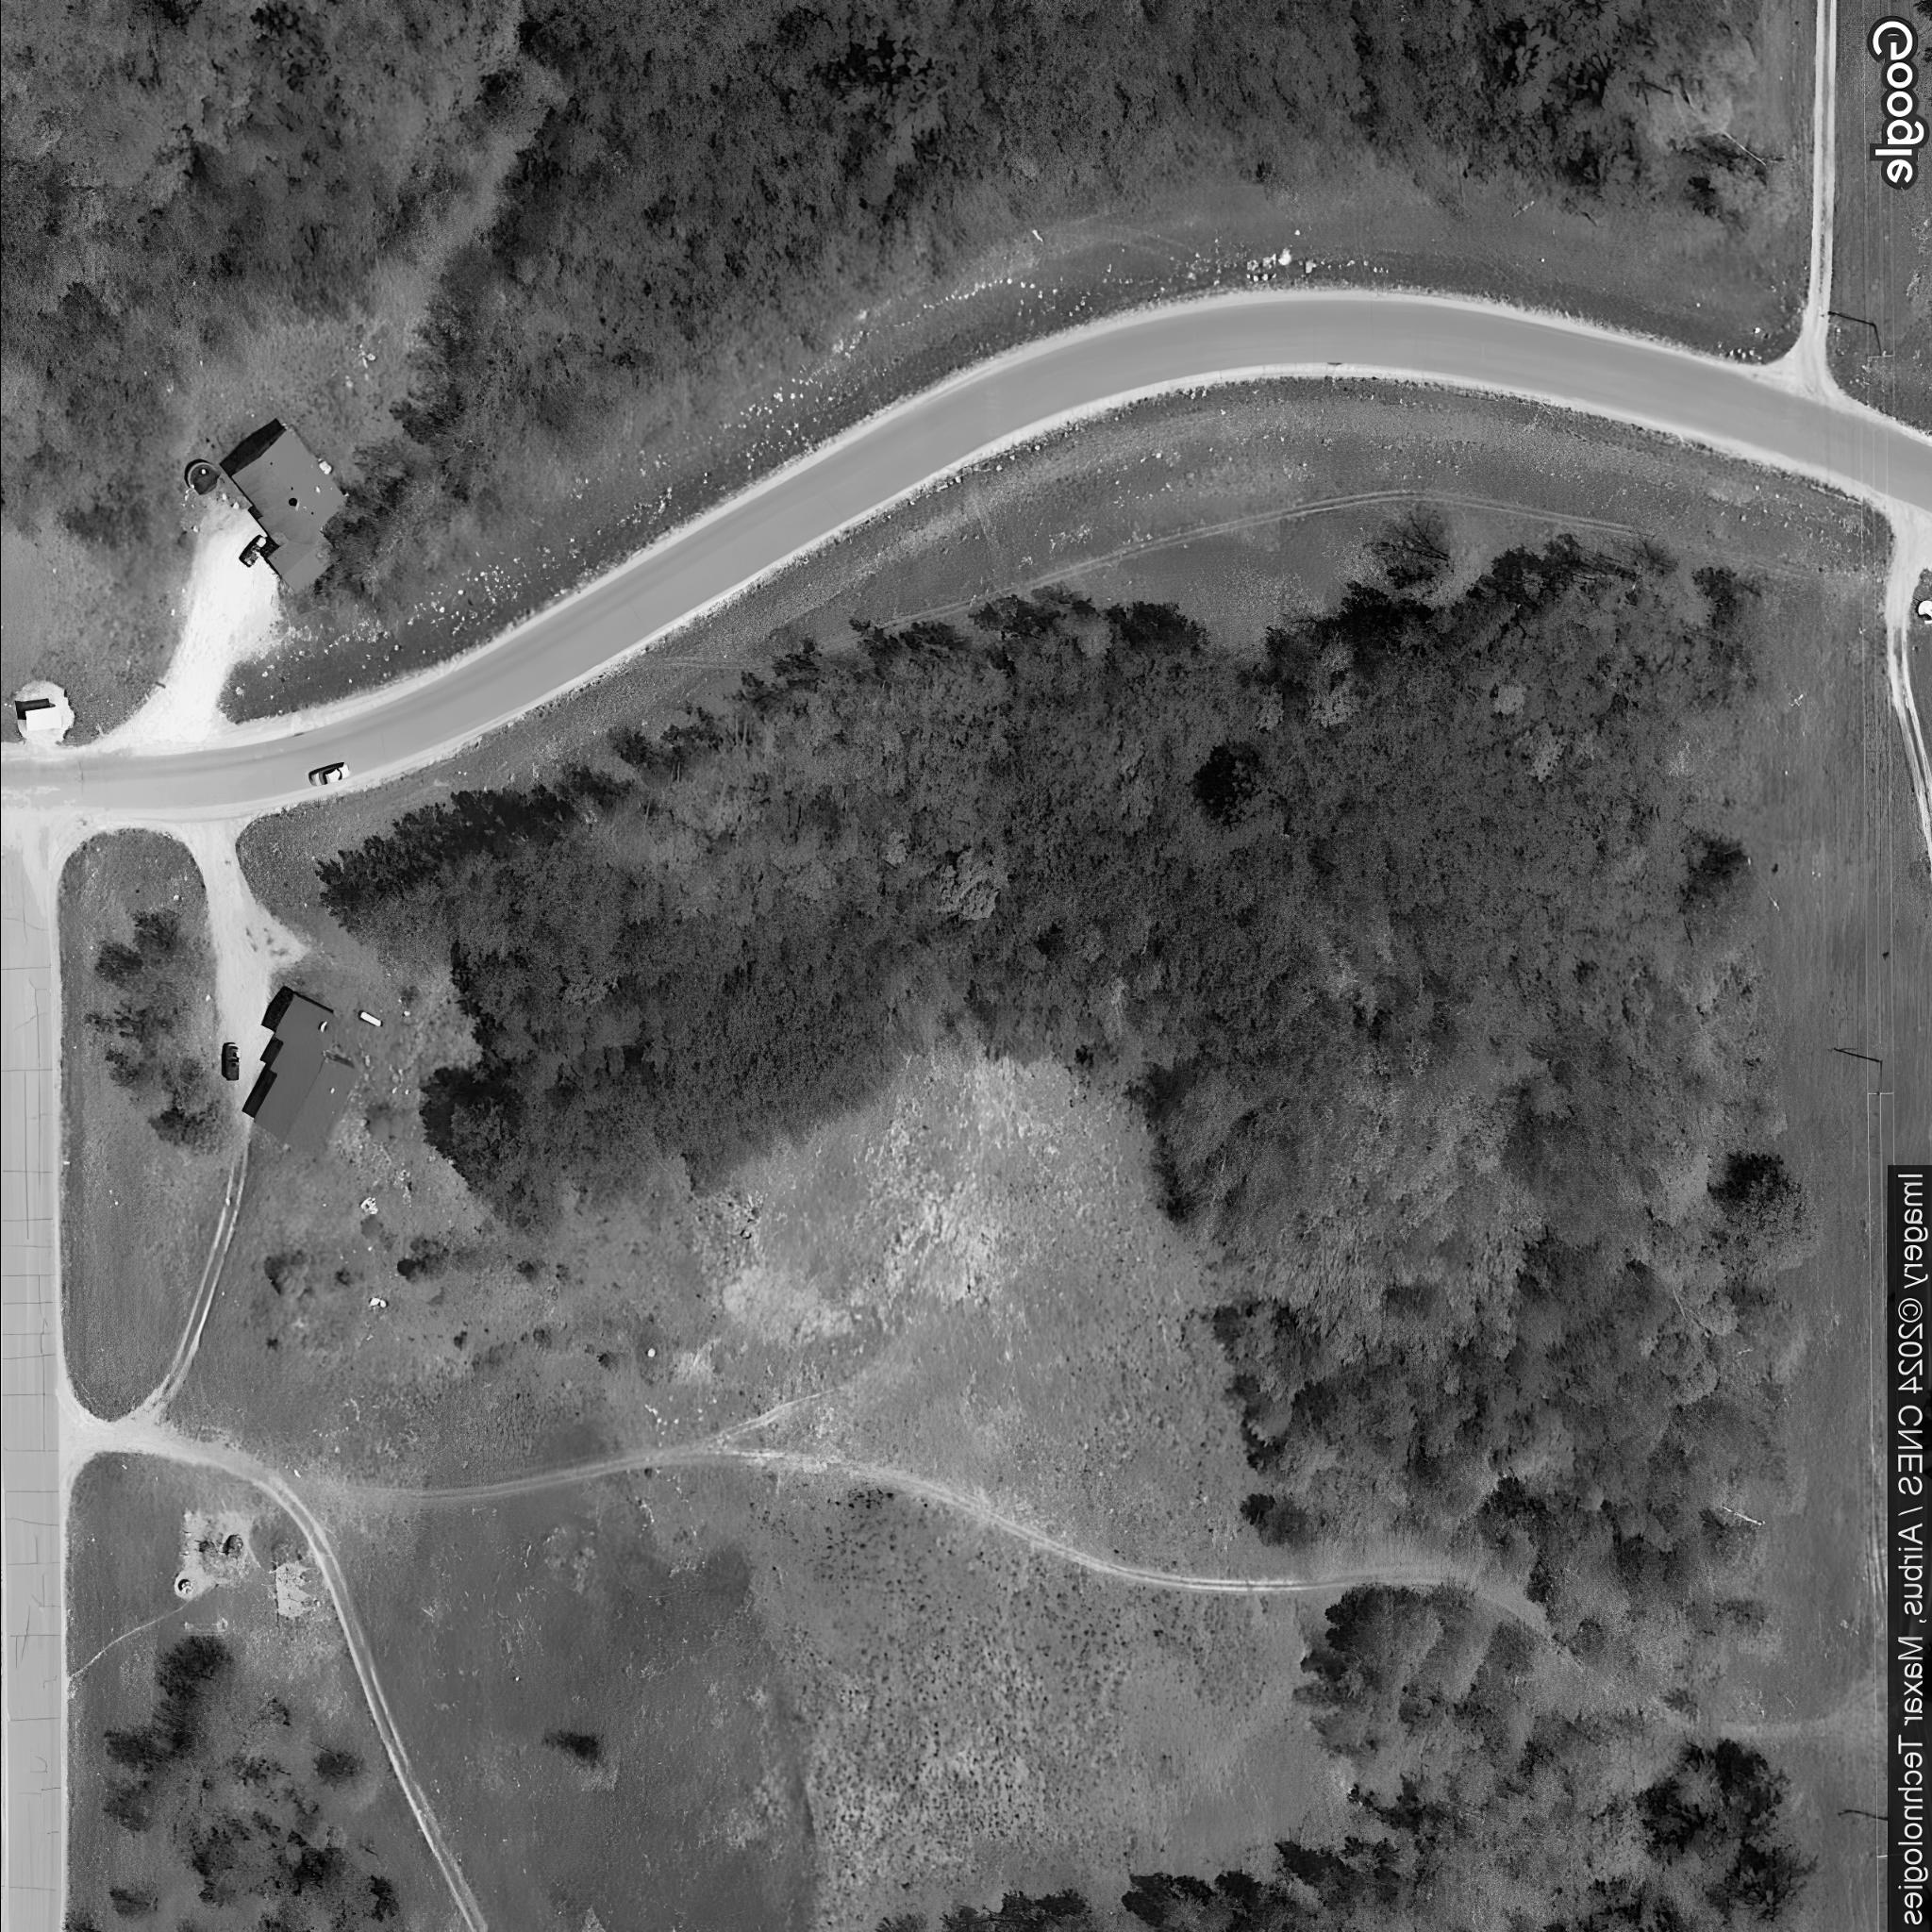House: (228, 426, 352, 596), (248, 991, 357, 1157)
Propane: (354, 1008, 384, 1031)
